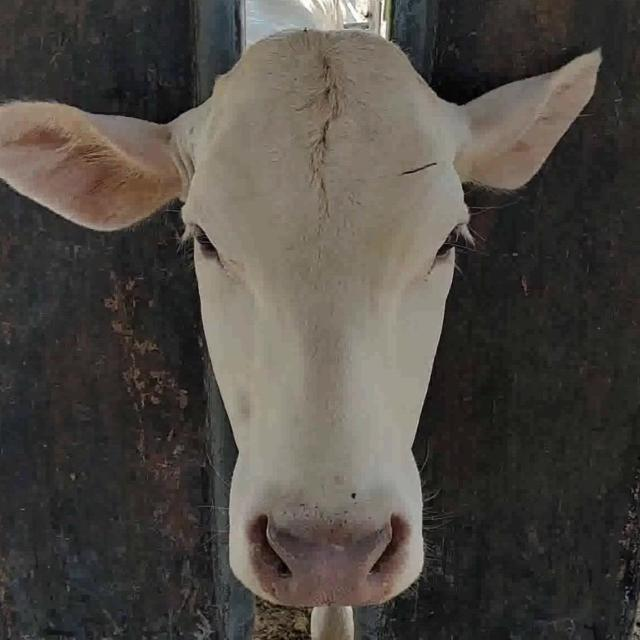cowFace: (177, 27, 467, 603)
